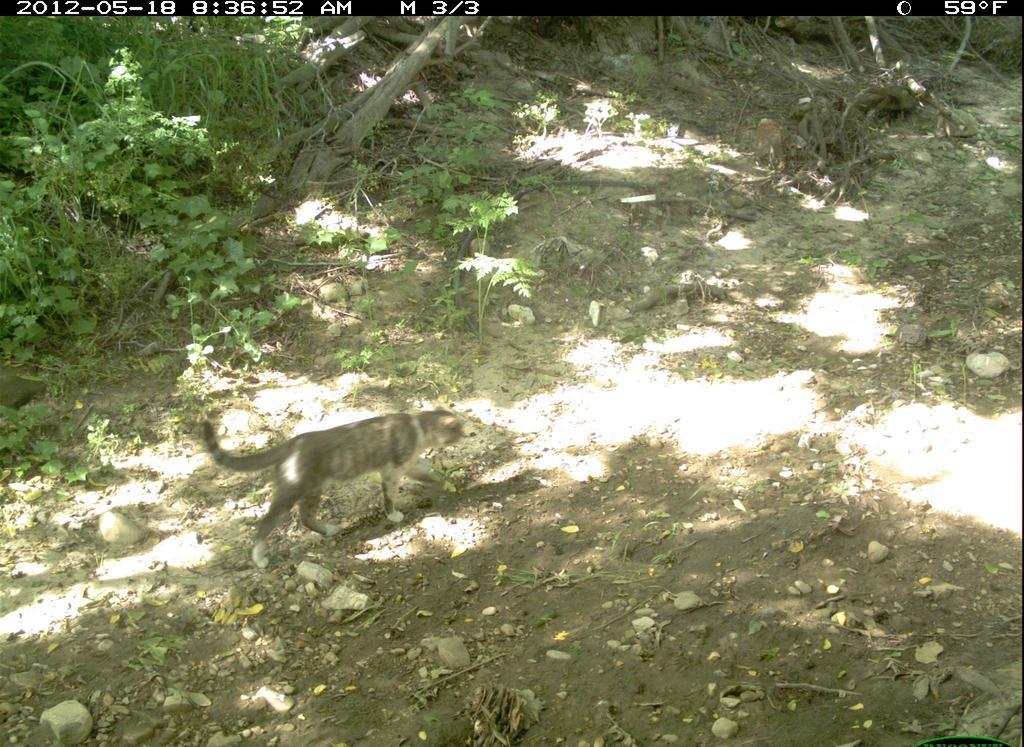cat: (184, 356, 536, 567)
